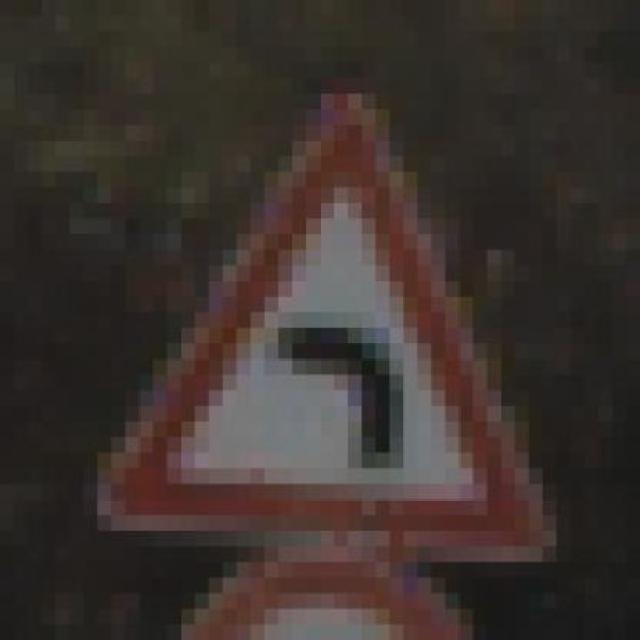Dangerous Left Curve Ahead: (110, 62, 584, 578)
